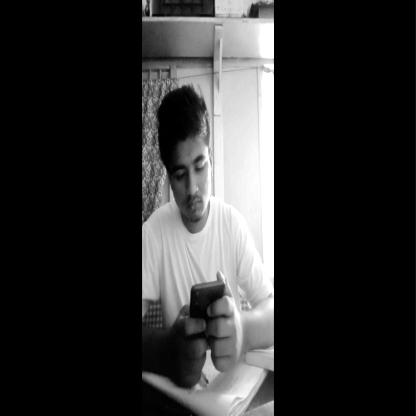Normal: (159, 83, 221, 230)
